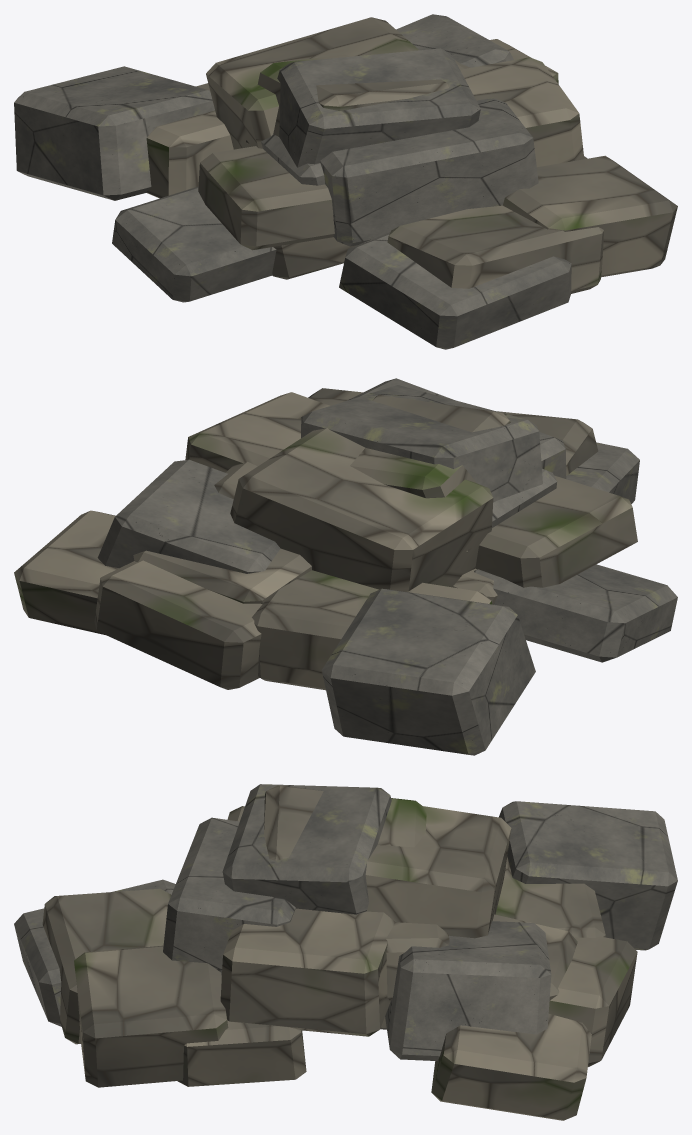
Rendered from RuinRubble.fbx.
3 views of the same model, one above another, from view 1: azimuth 30°, elevation 25°; view 2: azimuth 150°, elevation 25°; view 3: azimuth 270°, elevation 25° (orthographic). The views are drawn at different scales.
Parts seen in each view (by area): view 1: RuinRubble; view 2: RuinRubble; view 3: RuinRubble.
Boxes of the visible parts, x1,y1,x2,y2 form: RuinRubble: [14, 14, 677, 349]; RuinRubble: [14, 378, 677, 755]; RuinRubble: [14, 784, 677, 1120].
Size of the model in its own units: 262 by 88.74 by 291.
